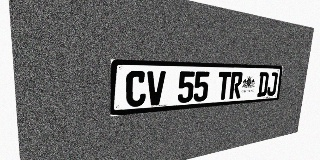5: (177, 71, 195, 103), (193, 71, 210, 102)
C: (125, 71, 147, 107)
D: (257, 72, 269, 97)
J: (266, 72, 278, 96)
R: (229, 72, 243, 99)
T: (217, 72, 231, 100)
V: (146, 71, 166, 106)
